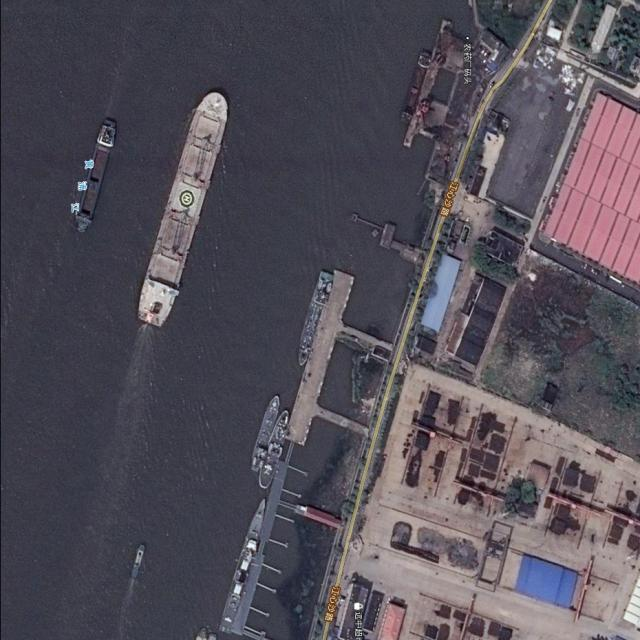Cargo: (132, 86, 234, 328), (72, 118, 120, 235)
Landing: (245, 393, 284, 474)
Other Warship: (217, 495, 270, 634), (293, 270, 332, 367), (131, 543, 146, 577)
